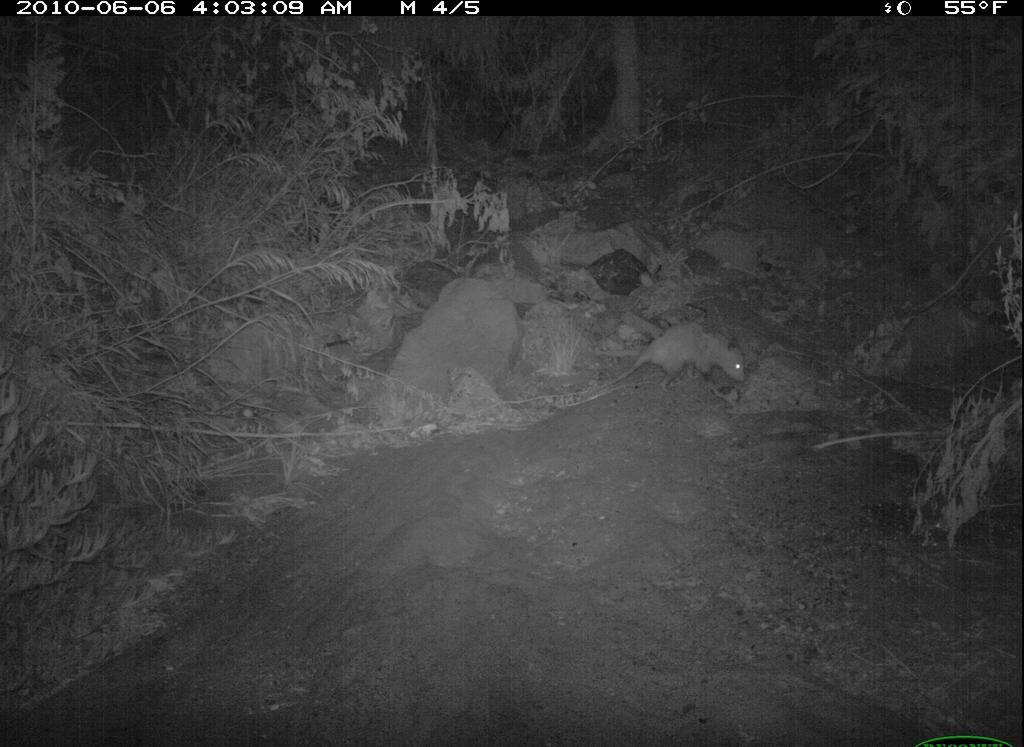opossum: (587, 312, 772, 405)
